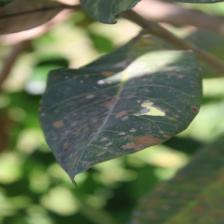red rust: (37, 46, 203, 187)
